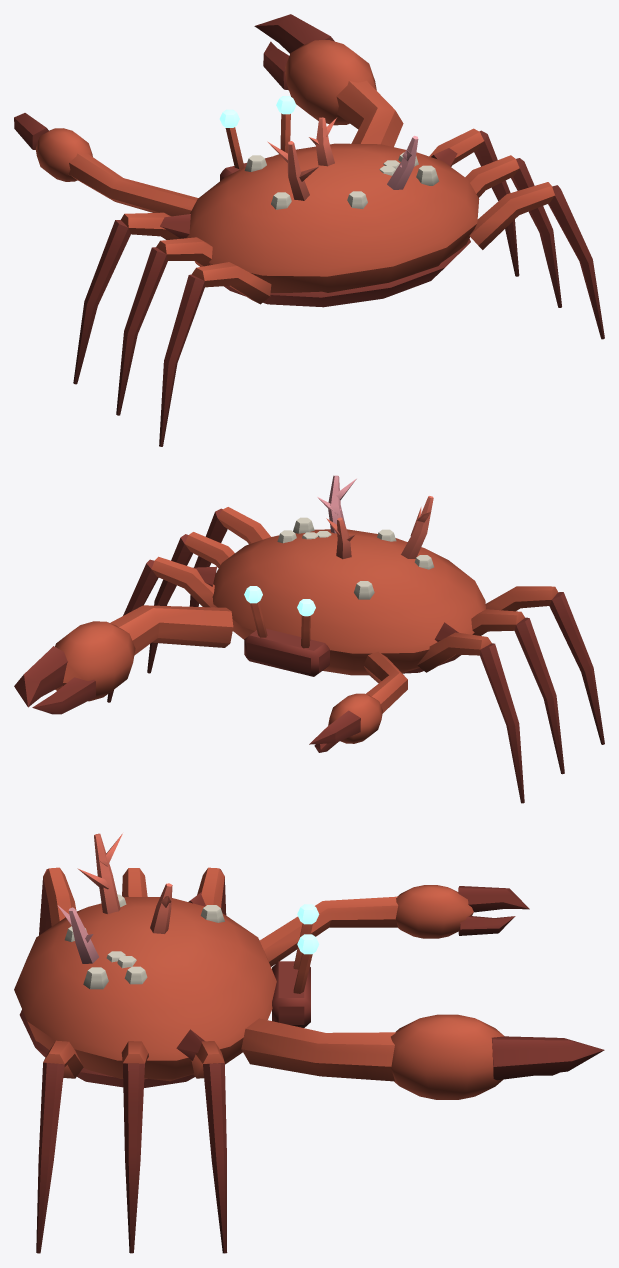
File: mob_tide_claw.fbx
3 renders of one model, top to bottom at view 1: azimuth 30°, elevation 25°; view 2: azimuth 150°, elevation 25°; view 3: azimuth 270°, elevation 25°, orthographic. The views are drawn at different scales.
Parts seen in each view (by area): view 1: Body, JawR, JawL, Knee-1_2, Knee-1_1, Knee-1_3, Leg1_3, Knee1_3, Leg-1_3, Knee1_2, Leg1_2, Leg-1_2 (+3 smaller); view 2: Body, JawR, JawL, Head, Knee-1_2, Knee-1_1, Knee-1_3, Leg1_1, Leg-1_1, Leg-1_3, Leg-1_2, Leg1_3 (+4 smaller); view 3: Body, JawR, JawL, Knee1_2, Knee1_3, Knee1_1, Head, Leg-1_3, Leg1_3, Leg-1_1, Leg1_1, Leg-1_2.
Boxes of the visible parts, bbox=[...] form: Body: bbox=[160, 117, 479, 307]; JawR: bbox=[254, 14, 403, 146]; JawL: bbox=[14, 113, 198, 216]; Knee-1_2: bbox=[116, 247, 167, 415]; Knee-1_1: bbox=[73, 220, 130, 384]; Knee-1_3: bbox=[159, 274, 204, 446]; Leg1_3: bbox=[469, 182, 554, 249]; Knee1_3: bbox=[548, 185, 604, 339]; Leg-1_3: bbox=[191, 262, 271, 304]; Knee1_2: bbox=[511, 158, 561, 307]; Leg1_2: bbox=[465, 155, 519, 197]; Leg-1_2: bbox=[156, 237, 212, 266]; Body: bbox=[192, 475, 485, 675]; JawR: bbox=[14, 605, 233, 714]; JawL: bbox=[309, 651, 407, 752]; Head: bbox=[244, 628, 329, 676]; Knee-1_2: bbox=[514, 617, 564, 774]; Knee-1_1: bbox=[480, 643, 524, 803]; Knee-1_3: bbox=[549, 592, 604, 744]; Leg1_1: bbox=[151, 556, 214, 607]; Leg-1_1: bbox=[417, 632, 491, 672]; Leg-1_3: bbox=[485, 586, 557, 611]; Leg-1_2: bbox=[471, 609, 524, 635]; Leg1_3: bbox=[218, 507, 270, 544]; Body: bbox=[14, 833, 276, 1087]; JawR: bbox=[241, 1014, 604, 1099]; JawL: bbox=[259, 885, 529, 966]; Knee1_2: bbox=[123, 1063, 144, 1253]; Knee1_3: bbox=[36, 1062, 64, 1253]; Knee1_1: bbox=[203, 1062, 227, 1253]; Head: bbox=[272, 961, 310, 1027]; Leg-1_3: bbox=[43, 867, 76, 926]; Leg1_3: bbox=[43, 1040, 83, 1078]; Leg-1_1: bbox=[197, 867, 224, 907]; Leg1_1: bbox=[191, 1041, 224, 1078]; Leg-1_2: bbox=[122, 868, 147, 897].
Size of the model in its own units: 504 by 266 by 532.
2 materials, 1 textured.
